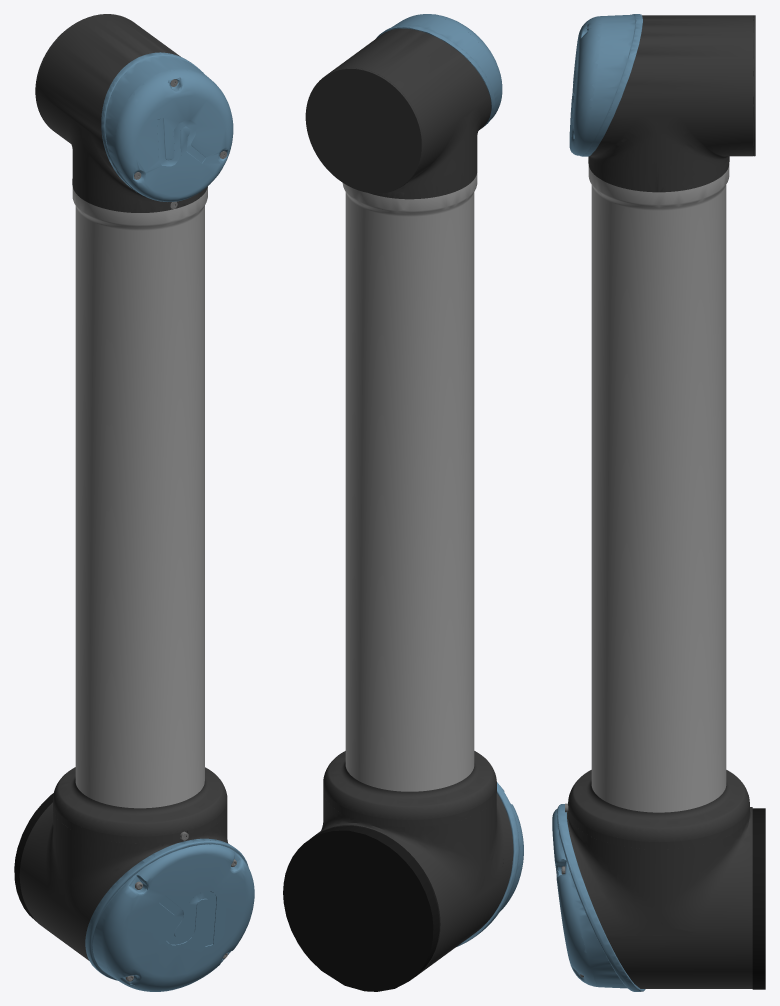
Rendered from forearm.dae.
The picture shows the model from 3 angles, left to right: view 1: azimuth 30°, elevation 25°; view 2: azimuth 150°, elevation 25°; view 3: azimuth 270°, elevation 25°; orthographic projection. The views are drawn at different scales.
Visible parts, largest first — view 1: node-shape3-name, node-shape1-name, node-shape0-name, node-shape4-name; view 2: node-shape3-name, node-shape0-name, node-shape4-name, node-shape1-name; view 3: node-shape3-name, node-shape0-name, node-shape1-name, node-shape4-name.
Part boxes in pixels (box(x1,y1,x2,y2)): node-shape3-name: box(72, 186, 207, 808); node-shape1-name: box(85, 52, 254, 991); node-shape0-name: box(19, 14, 228, 960); node-shape4-name: box(14, 793, 53, 923); node-shape3-name: box(342, 173, 477, 791); node-shape0-name: box(305, 28, 513, 974); node-shape4-name: box(283, 825, 439, 991); node-shape1-name: box(376, 14, 523, 946); node-shape3-name: box(588, 165, 729, 812); node-shape0-name: box(567, 15, 755, 988); node-shape1-name: box(552, 14, 645, 991); node-shape4-name: box(752, 808, 765, 989).
Size of the model in its own units: 0.12 by 0.1362 by 0.6776.
